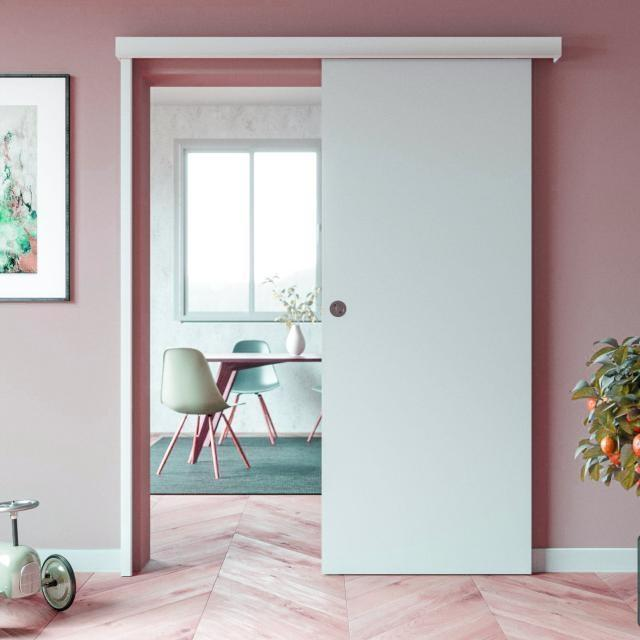door: (319, 56, 534, 575)
